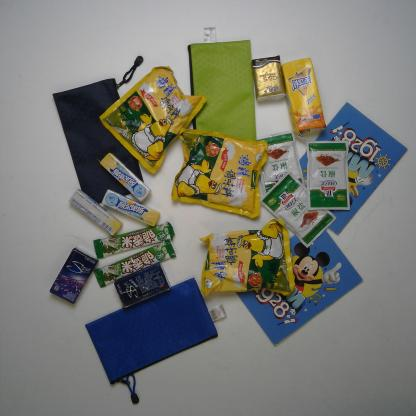Candy: (61, 187, 124, 236), (94, 187, 161, 228), (98, 152, 150, 202)
Chocolate: (94, 236, 179, 287), (92, 217, 178, 261)
Drink: (280, 54, 327, 139)
Gum: (114, 257, 171, 308), (50, 244, 96, 306)
Seasoner: (98, 62, 206, 175), (171, 127, 270, 218), (198, 216, 296, 298), (264, 172, 336, 248), (249, 129, 305, 205), (302, 138, 353, 213)
Stationery: (235, 203, 365, 348), (281, 100, 408, 238), (84, 276, 219, 405), (51, 57, 158, 207), (186, 39, 260, 180)
Tissue: (250, 52, 288, 101)
